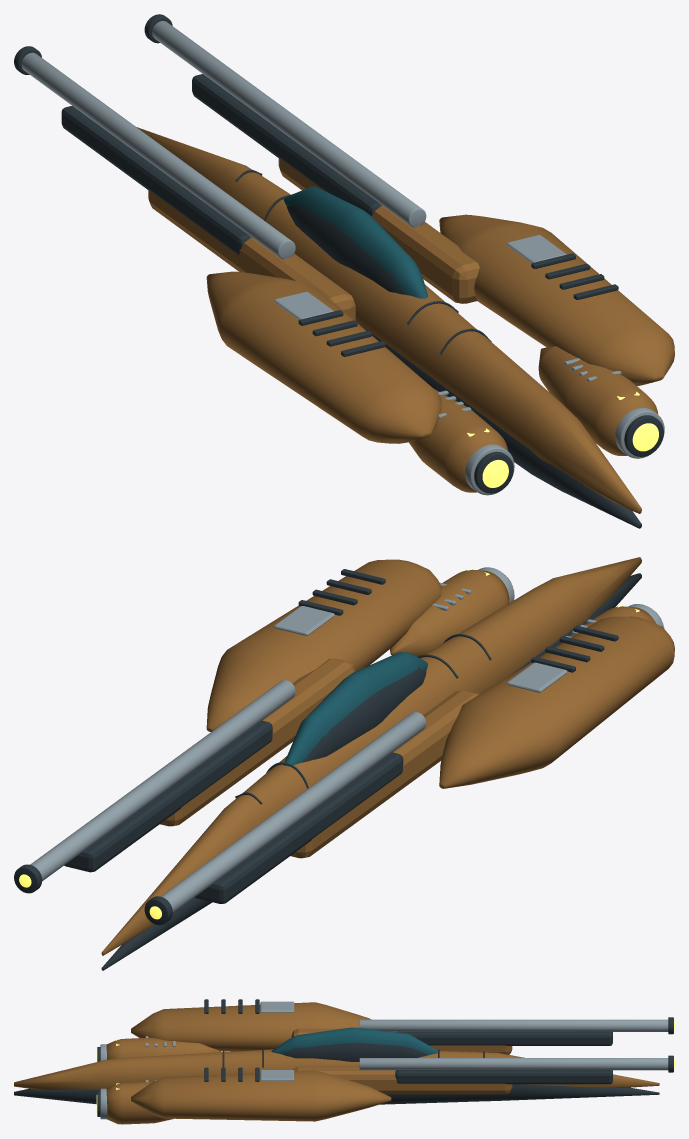
The model's file is boss-4-p2.glb.
The picture shows the model from 3 angles, top to bottom: view 1: azimuth 30°, elevation 25°; view 2: azimuth 150°, elevation 25°; view 3: azimuth 270°, elevation 25°; orthographic projection. The views are drawn at different scales.
Visible parts, largest first — view 1: SM_Hull, SM_Wing_Left, SM_Wing_Right, SM_Weapon_Right, SM_Weapon_Left, SM_Engine_Right, SM_Engine_Left; view 2: SM_Hull, SM_Wing_Left, SM_Weapon_Right, SM_Weapon_Left, SM_Wing_Right, SM_Engine_Right, SM_Engine_Left; view 3: SM_Hull, SM_Wing_Right, SM_Weapon_Right, SM_Wing_Left, SM_Weapon_Left, SM_Engine_Right, SM_Engine_Left.
Boxes of the visible parts, x1,y1,x2,y2 form: SM_Hull: (137, 127, 641, 528); SM_Wing_Left: (206, 271, 441, 443); SM_Wing_Right: (439, 214, 674, 386); SM_Weapon_Right: (144, 14, 479, 303); SM_Weapon_Left: (14, 46, 355, 320); SM_Engine_Right: (538, 346, 664, 458); SM_Engine_Left: (409, 389, 514, 495); SM_Hull: (101, 557, 641, 970); SM_Wing_Left: (439, 616, 674, 788); SM_Weapon_Right: (14, 658, 355, 893); SM_Weapon_Left: (144, 690, 479, 925); SM_Wing_Right: (206, 559, 441, 731); SM_Engine_Right: (390, 567, 514, 656); SM_Engine_Left: (566, 604, 664, 637); SM_Hull: (14, 1027, 659, 1104); SM_Wing_Right: (131, 1067, 391, 1121); SM_Weapon_Right: (293, 1055, 674, 1094); SM_Wing_Left: (131, 999, 371, 1051); SM_Weapon_Left: (291, 1017, 674, 1054); SM_Engine_Right: (96, 1080, 173, 1124); SM_Engine_Left: (96, 1036, 221, 1061).
Bounding box in the file's own units: 4.15 × 1.48 × 11.67.
